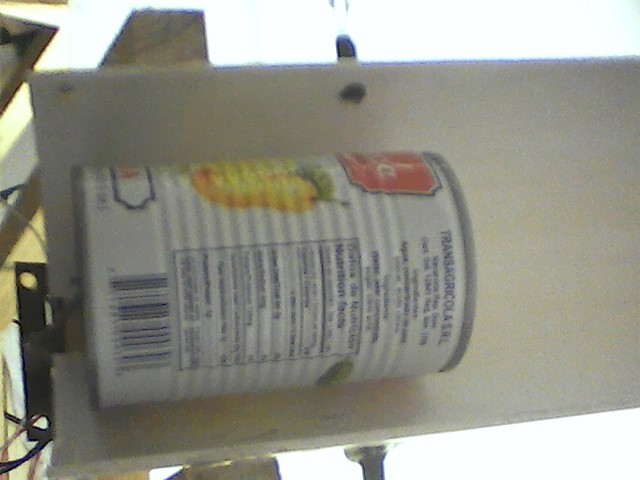lata: (66, 146, 485, 420)
